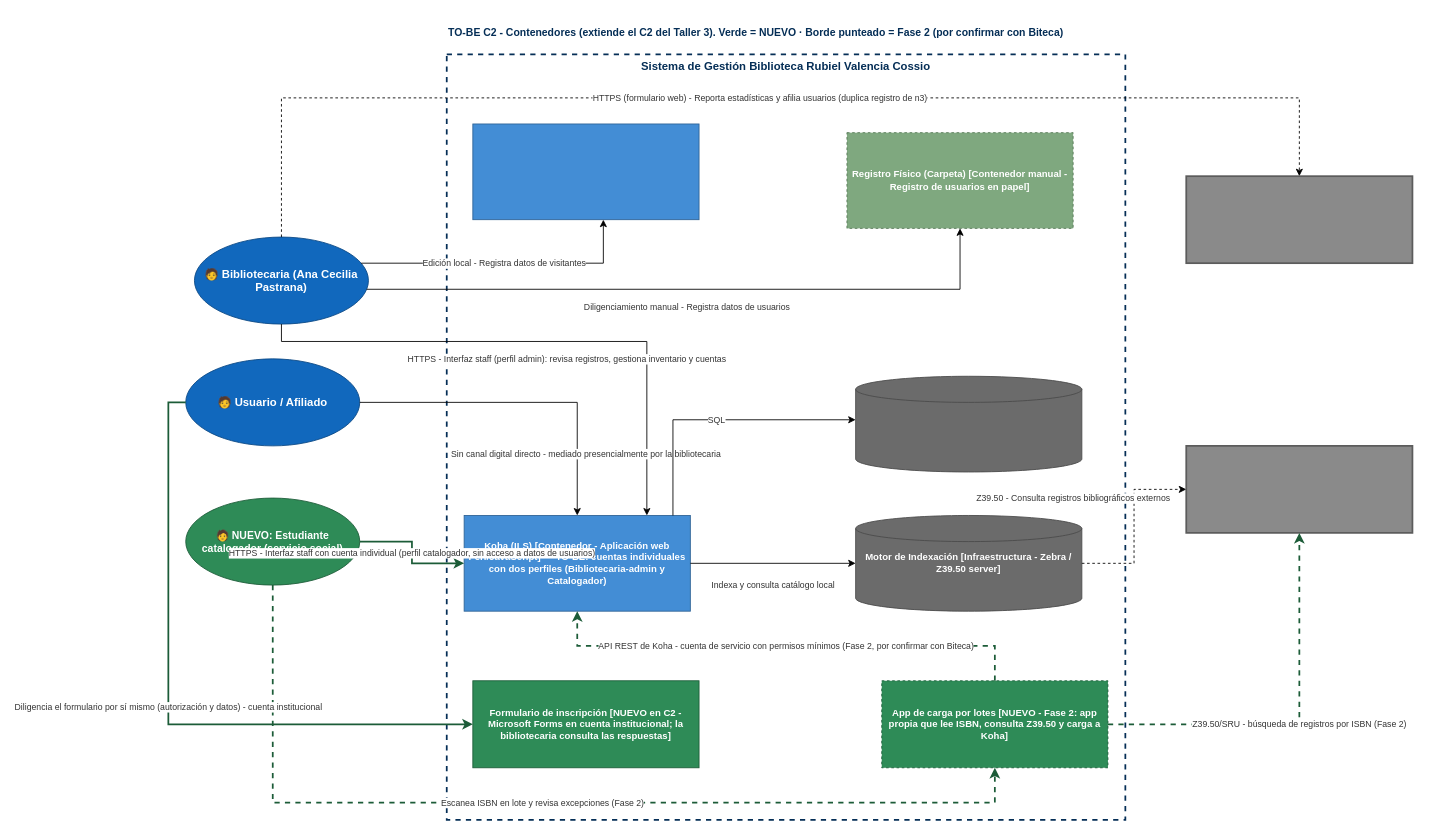
Image size: 1429x835. Some labels were removed from this diagram. The shapes that lost their labels are listed below. From the top down, each one's centre as x and y in pixels, then its label:
(585,171): Hoja de Cálculo Excel [Contenedor - Registro de visitantes]
(1299,219): Llave del Saber [Sistema externo - RNBP]
(968,423): Base de Datos Koha [Infraestructura - MySQL/MariaDB]
(1299,489): Red de Catalogación Compartida [Externo - Z39.50]
